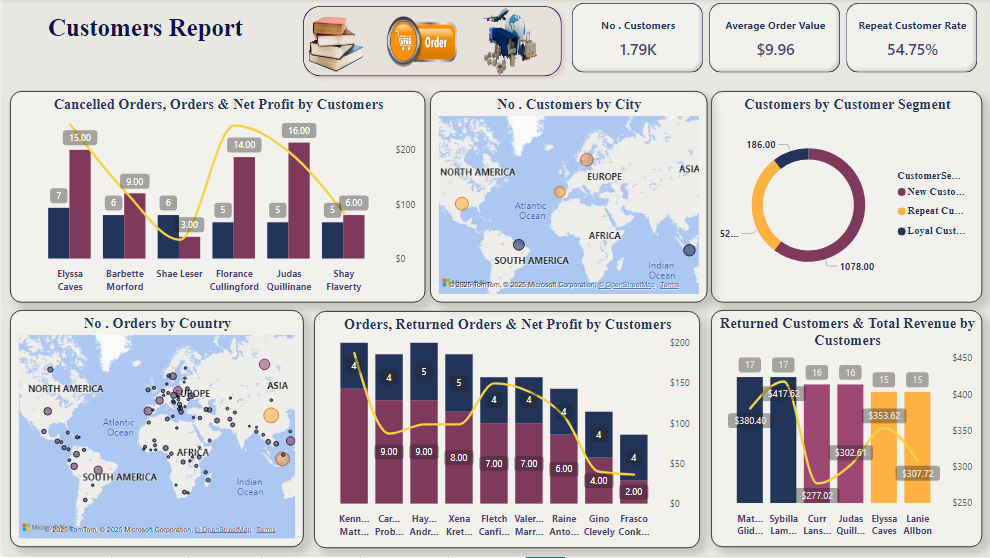

The dashboard page shown, as its layout file describes it:
{"tool":"powerbi","page":{"name":"Customers","canvas":[1280,720],"ordinal":3},"visuals":[{"type":"donutChart","title":"Customers by Customer Segment","fields":{"Category":["Customer_Dim.CustomerSegment"],"Y":["Dax.No . Customers"]},"box":[913.9,118.7,350.4,273.2],"z":0},{"type":"cardVisual","fields":{"Data":["Dax.No . Customers","Dax.Average Order Value","Dax.Repeat Customer Rate"]},"box":[729.4,0,534.9,100.1],"z":1000},{"type":"lineClusteredColumnComboChart","title":"Returned Customers & Total Revenue by Customers","fields":{"Category":["Customer_Dim.Name"],"Y":["Dax.Returned Customers"],"Y2":["Dax.Total Revenue"]},"box":[913.9,401.9,350.4,306.1],"z":2000},{"type":"lineClusteredColumnComboChart","title":"Cancelled Orders, Orders & Net Profit by Customers","fields":{"Category":["Customer_Dim.Name"],"Y":["Dax.Cancelled Orders","Dax.No . Orders"],"Y2":["Dax.Net Profit"]},"box":[8.6,118.7,536.3,273.2],"z":3000},{"type":"lineStackedColumnComboChart","title":" Orders, Returned Orders & Net Profit by Customers","fields":{"Category":["Customer_Dim.Name"],"Y":["Dax.No . Orders","Dax.Returned Orders"],"Y2":["Dax.Net Profit"]},"box":[401.2,402.5,498.2,305.5],"z":4000},{"type":"map","fields":{"Size":["Dax.No . Orders"],"Category":["Customer_Dim.Country"]},"box":[8.6,401.9,379,306.1],"z":5000},{"type":"map","fields":{"Category":["Customer_Dim.City"],"Size":["Dax.No . Customers"]},"box":[550.6,118.7,357.5,273.2],"z":6000},{"type":"shape","box":[377.6,0,351.8,108.7],"z":7000},{"type":"image","title":"books","box":[389,14.3,82.9,85.8],"z":8000},{"type":"image","title":"shappimg","box":[613.5,4.3,82.9,100.1],"z":9000},{"type":"textbox","box":[0,14.3,367.6,68.6],"z":10000},{"type":"image","title":"orders","box":[490.5,17.2,101.5,78.7],"z":11000}]}

Visuals, with their boxes in screenshot pixels (x1, y1, x2, y2), scaled from the page's 1280x720 canvas onto the 990x558 screenshot:
"Customers by Customer Segment" donutChart: (x1=707, y1=92, x2=978, y2=304)
cardVisual - Dax.No . Customers x Dax.Average Order Value: (x1=564, y1=0, x2=978, y2=78)
"Returned Customers & Total Revenue by Customers" lineClusteredColumnComboChart: (x1=707, y1=311, x2=978, y2=549)
"Cancelled Orders, Orders & Net Profit by Customers" lineClusteredColumnComboChart: (x1=7, y1=92, x2=421, y2=304)
" Orders, Returned Orders & Net Profit by Customers" lineStackedColumnComboChart: (x1=310, y1=312, x2=696, y2=549)
map - Dax.No . Orders x Customer_Dim.Country: (x1=7, y1=311, x2=300, y2=549)
map - Customer_Dim.City x Dax.No . Customers: (x1=426, y1=92, x2=702, y2=304)
shape: (x1=292, y1=0, x2=564, y2=84)
"books" image: (x1=301, y1=11, x2=365, y2=78)
"shappimg" image: (x1=475, y1=3, x2=539, y2=81)
textbox: (x1=0, y1=11, x2=284, y2=64)
"orders" image: (x1=379, y1=13, x2=458, y2=74)
